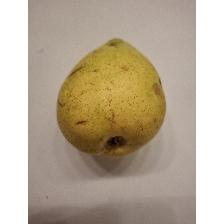Birne: (54, 37, 174, 163)
